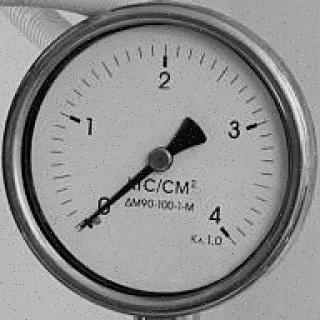gauge: (0, 0, 320, 320), (76, 200, 114, 238), (208, 213, 237, 245), (147, 145, 173, 175), (75, 220, 92, 236)
